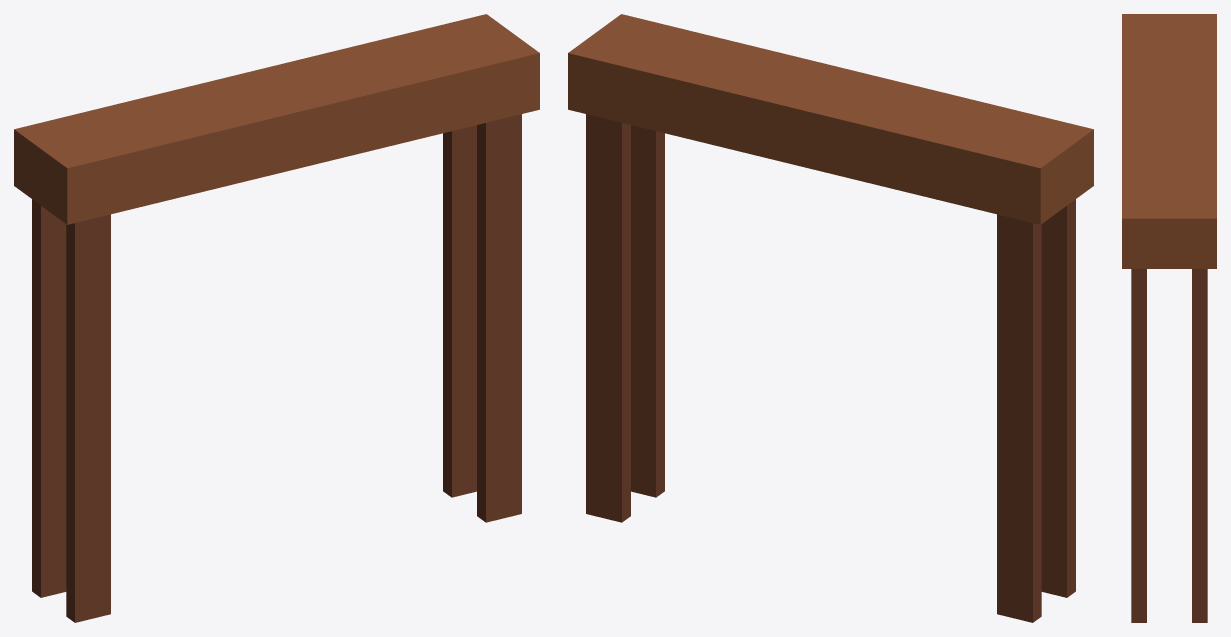
Rendered from changing_bench.glb.
3 views of the same model, side by side, from view 1: azimuth 30°, elevation 25°; view 2: azimuth 150°, elevation 25°; view 3: azimuth 270°, elevation 25° (orthographic). The views are drawn at different scales.
Size of the model in its own units: 1.84 by 1.72 by 0.3601.
1 material, 1 textured.
